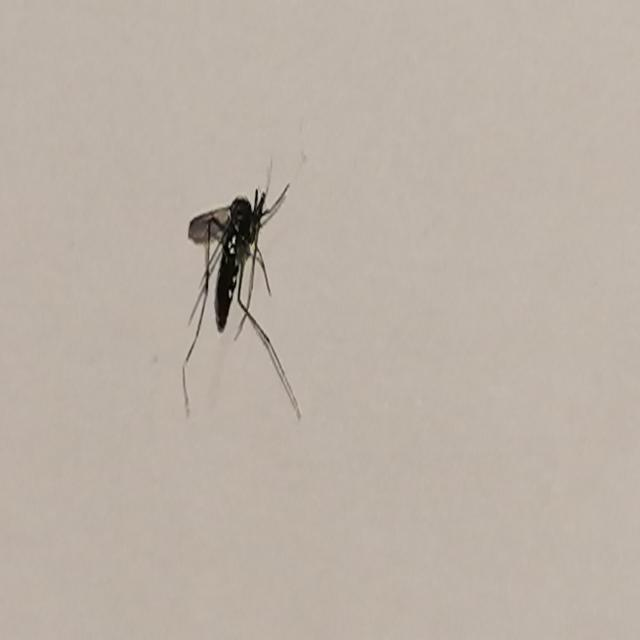albopictus: (172, 142, 306, 436)
